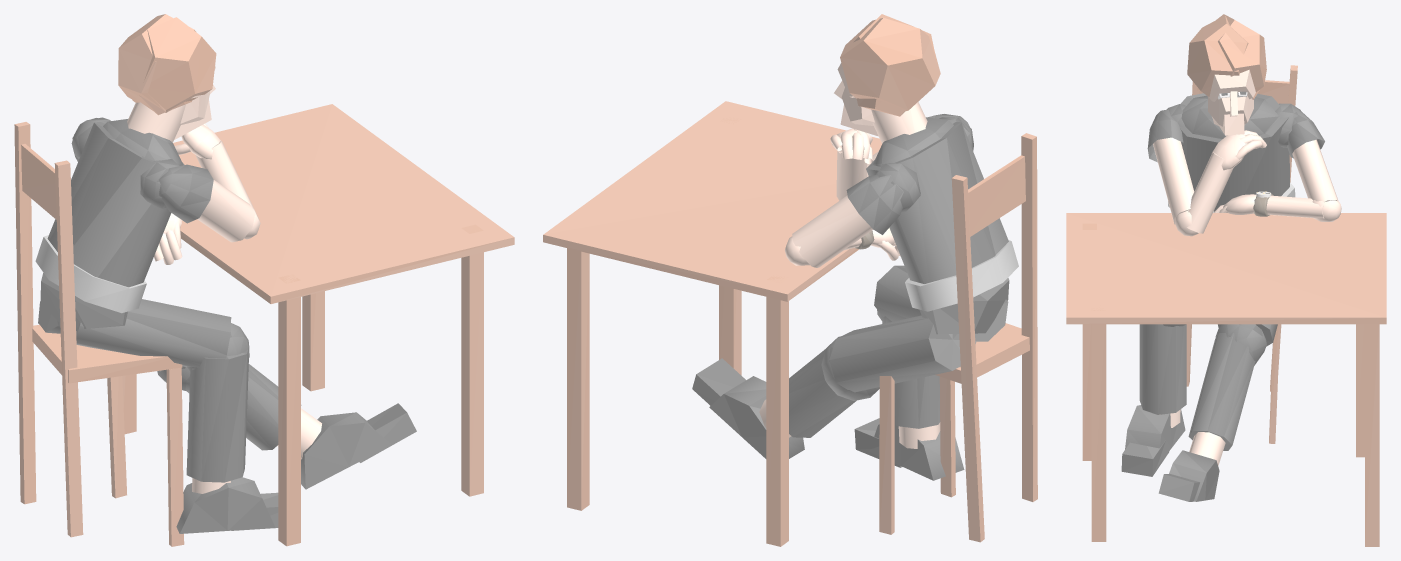
Rendered from man.glb.
The picture shows the model from 3 angles, left to right: view 1: azimuth 30°, elevation 25°; view 2: azimuth 150°, elevation 25°; view 3: azimuth 270°, elevation 25°; orthographic projection. The views are drawn at different scales.
Size of the model in its own units: 1.34 by 1.65 by 1.1.
